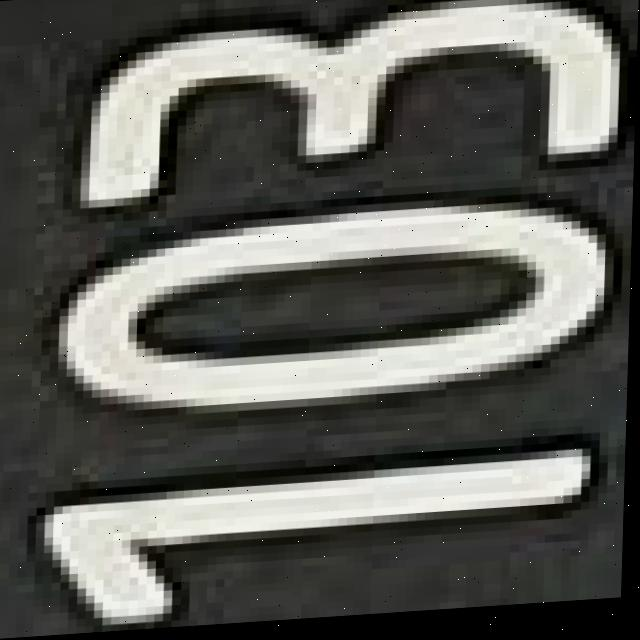character: (50, 184, 625, 425), (69, 0, 633, 212), (24, 431, 600, 637)
